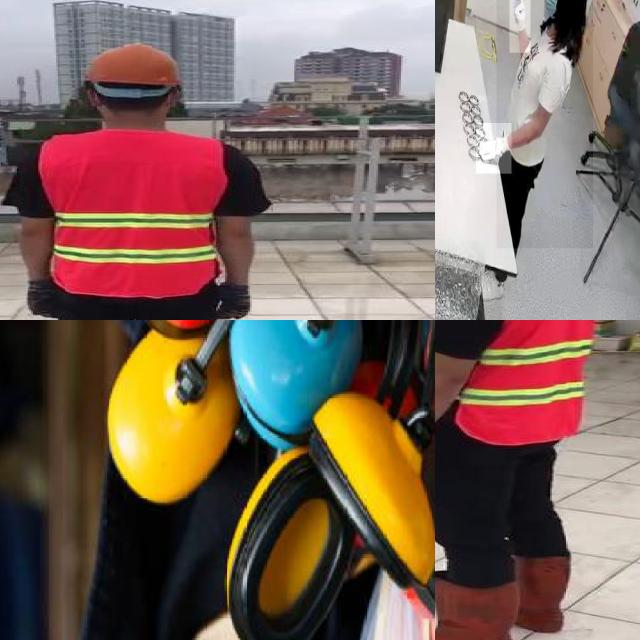Ear-protection: (199, 396, 435, 632), (85, 326, 242, 490), (237, 320, 391, 421)
boots: (468, 542, 575, 635), (435, 571, 518, 640)
face_mask: (544, 0, 560, 23)
hand_glove: (476, 123, 512, 175), (22, 282, 58, 319), (216, 284, 251, 320), (509, 0, 530, 53)
head_helmet: (84, 42, 185, 88)
person: (1, 39, 259, 320), (435, 320, 614, 640), (496, 0, 593, 249)
vest: (42, 131, 225, 297), (435, 320, 601, 443)
